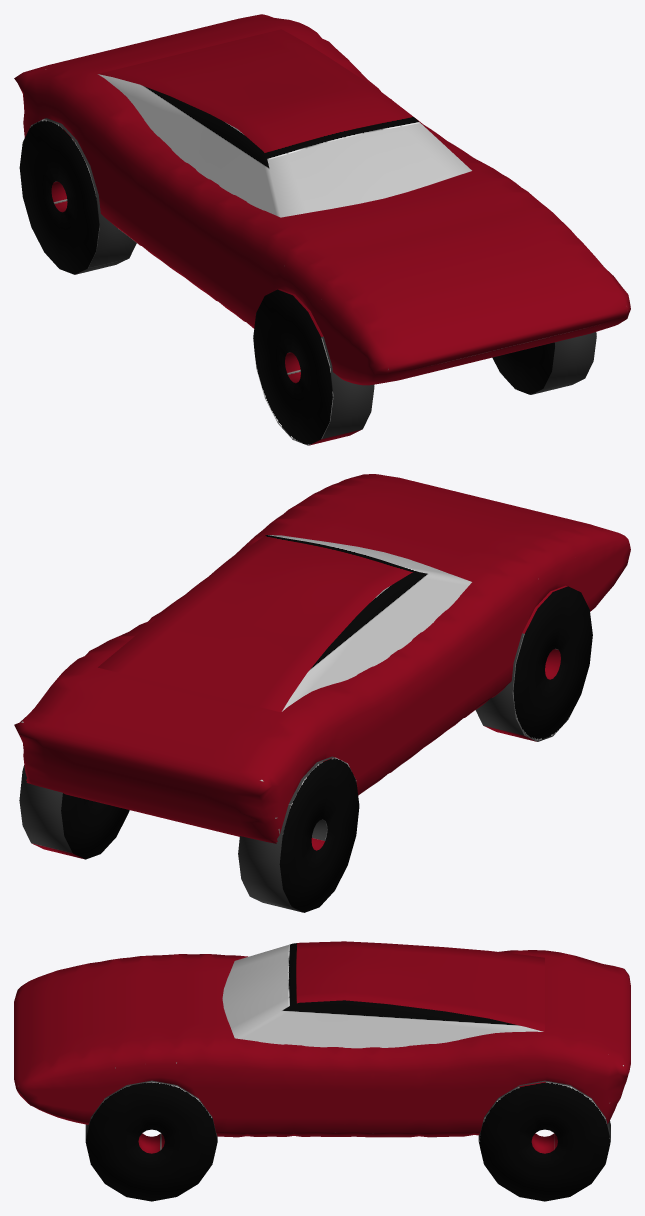
Rendered from fullycar3.obj.
3 renders of one model, top to bottom at view 1: azimuth 30°, elevation 25°; view 2: azimuth 150°, elevation 25°; view 3: azimuth 270°, elevation 25°, orthographic. The views are drawn at different scales.
Visible parts, largest first — view 1: tirefr_Cube.006; view 2: tirefr_Cube.006; view 3: tirefr_Cube.006.
Boxes of the visible parts, <box> form: tirefr_Cube.006: <box>14,14,630,445</box>; tirefr_Cube.006: <box>14,474,630,912</box>; tirefr_Cube.006: <box>14,941,630,1201</box>.
Bounding box in the file's own units: 3.74 × 3 × 9.26.
